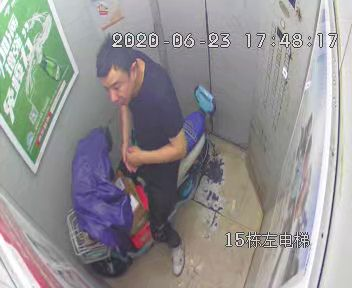Electric-bicycle: (72, 84, 212, 271)
